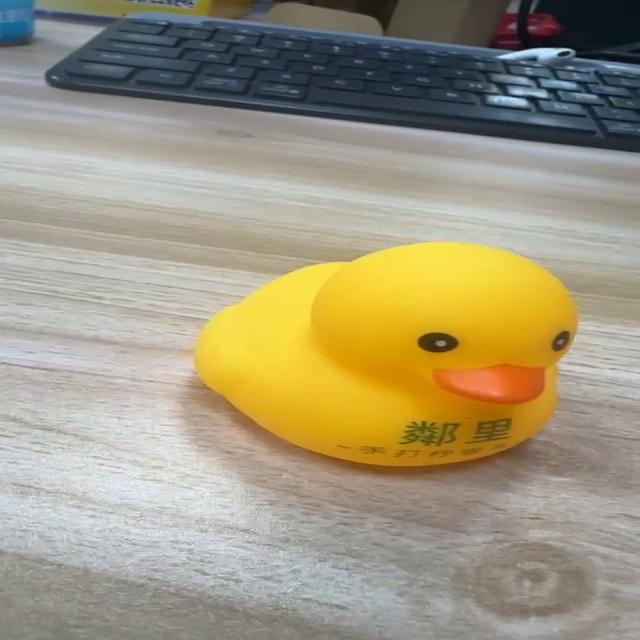yellow_duck: (191, 239, 579, 467)
